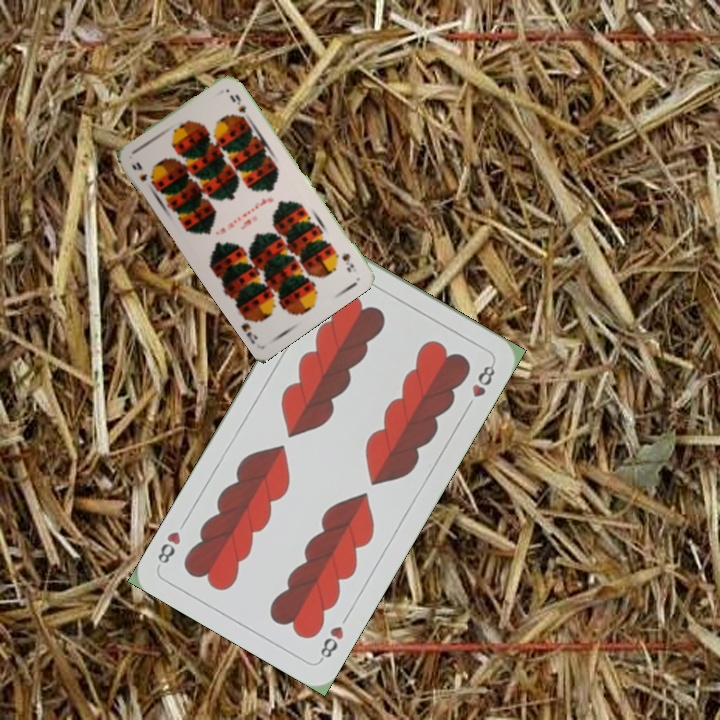H8: (315, 622, 347, 664)
S9: (127, 158, 158, 189), (338, 249, 357, 274)
